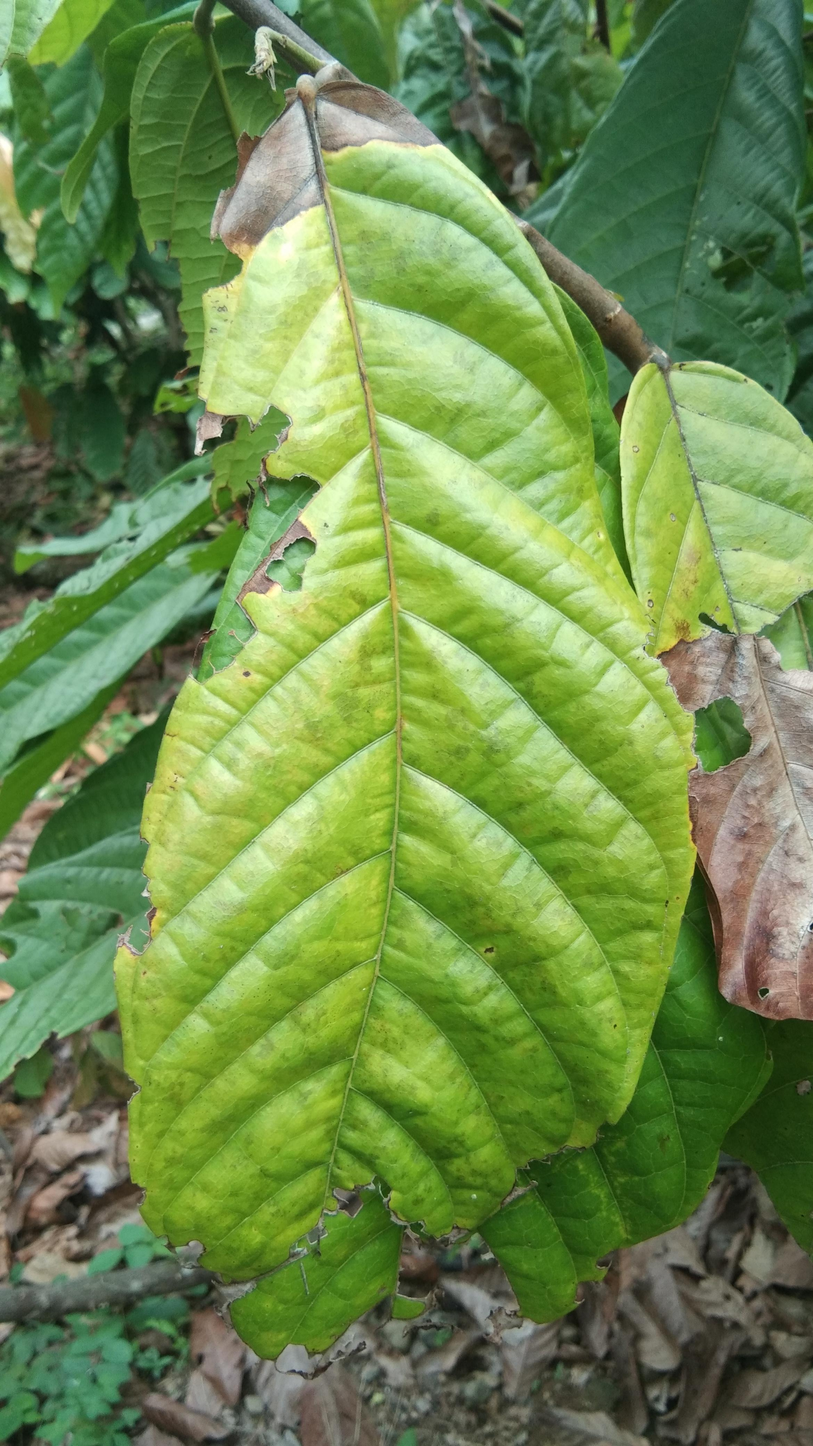deficiencia_potasio: (111, 70, 705, 1283)
